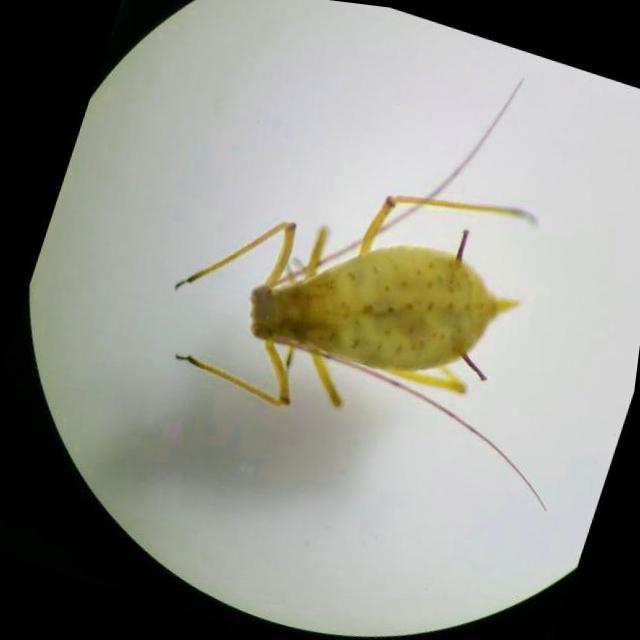aphid: (136, 92, 572, 488)
